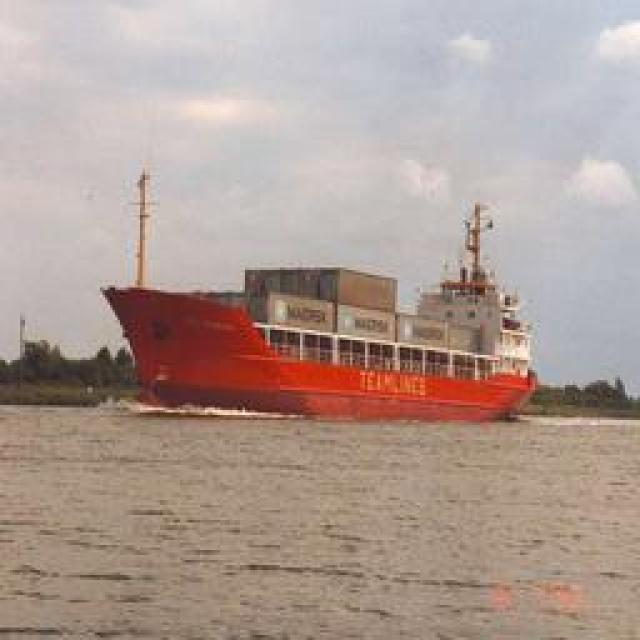ship: (119, 202, 534, 428)
